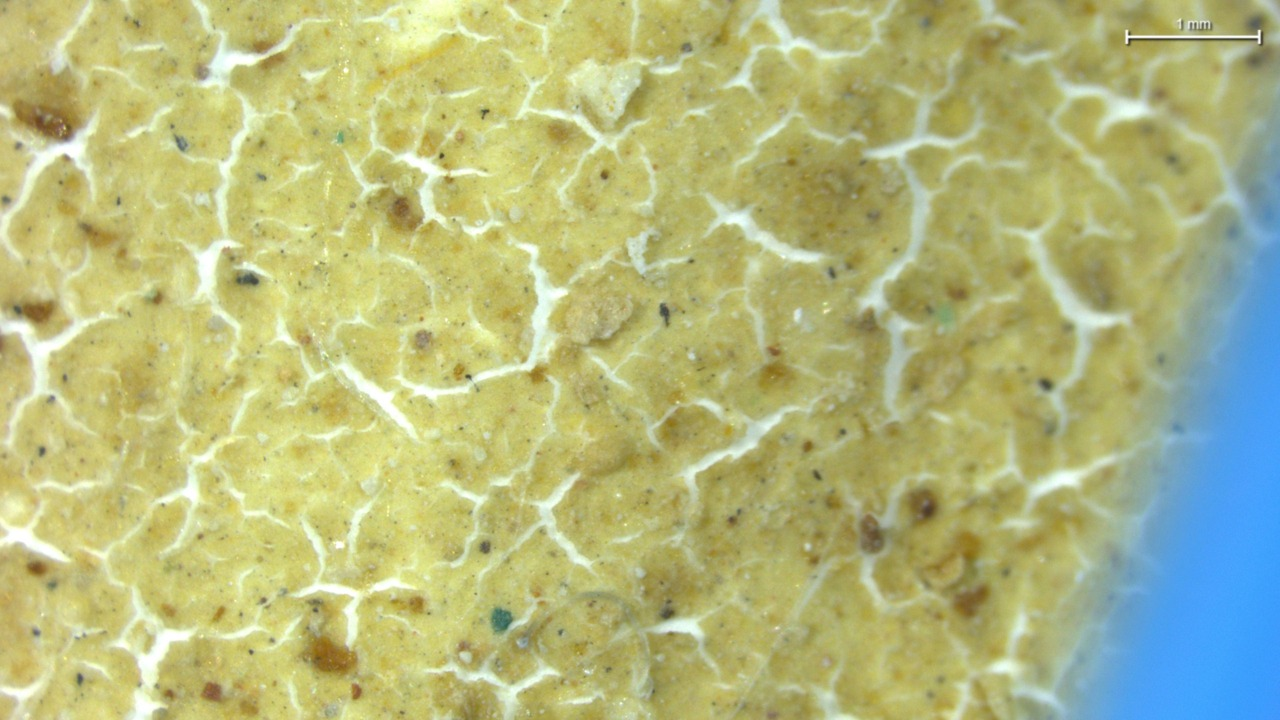microplastic_fragment: (566, 62, 643, 133), (566, 294, 637, 345)
